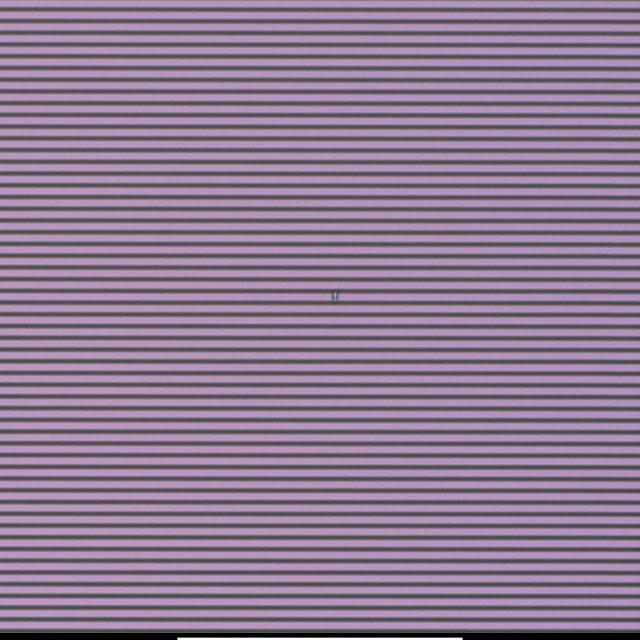03_intrusion: (330, 284, 340, 304)
